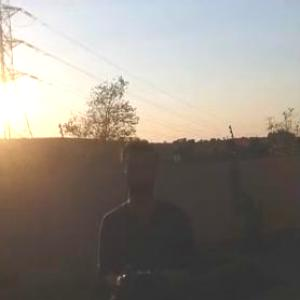follow: (95, 132, 203, 299)
